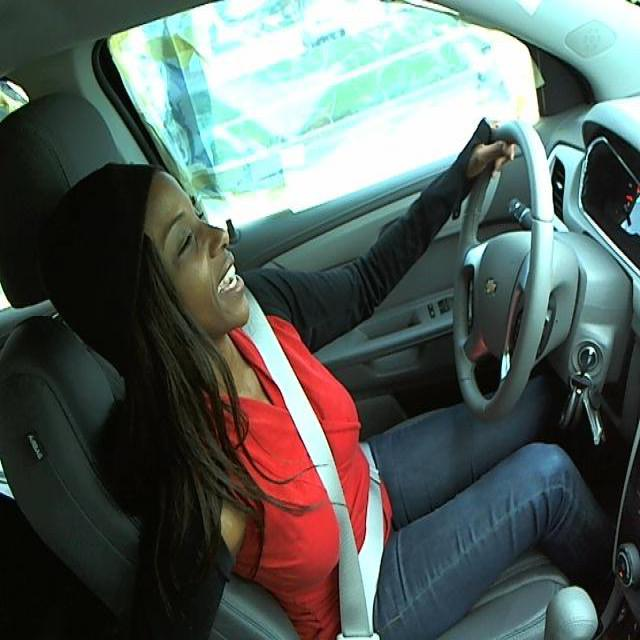seatbelt: (241, 321, 389, 628)
